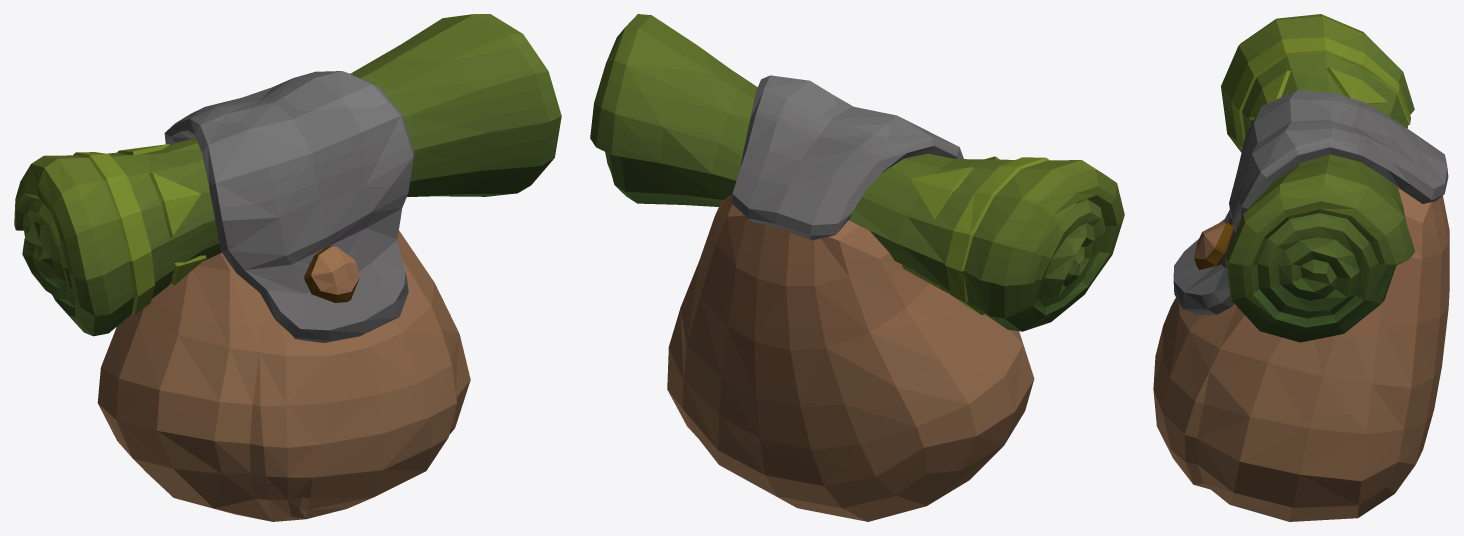
File: CharSkyKid_Prop_AP24Tent.glb
3 renders of one model, left to right at view 1: azimuth 30°, elevation 25°; view 2: azimuth 150°, elevation 25°; view 3: azimuth 270°, elevation 25°, orthographic. The views are drawn at different scales.
Parts seen in each view (by area): view 1: CharSkyKid_Prop_AP24Tent; view 2: CharSkyKid_Prop_AP24Tent; view 3: CharSkyKid_Prop_AP24Tent.
Part boxes in pixels (bbox=[...]): CharSkyKid_Prop_AP24Tent: bbox=[14, 14, 561, 521]; CharSkyKid_Prop_AP24Tent: bbox=[590, 14, 1124, 521]; CharSkyKid_Prop_AP24Tent: bbox=[1153, 14, 1449, 521].
Bounding box in the file's own units: 6.36 × 5.35 × 3.45.
1 material, 1 textured.
